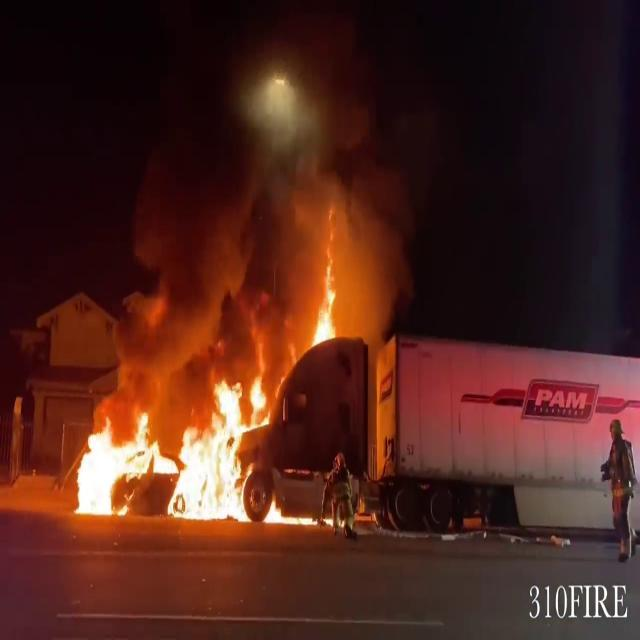Fire: (65, 367, 328, 529), (304, 256, 348, 360)
Smoke: (94, 58, 426, 356)
